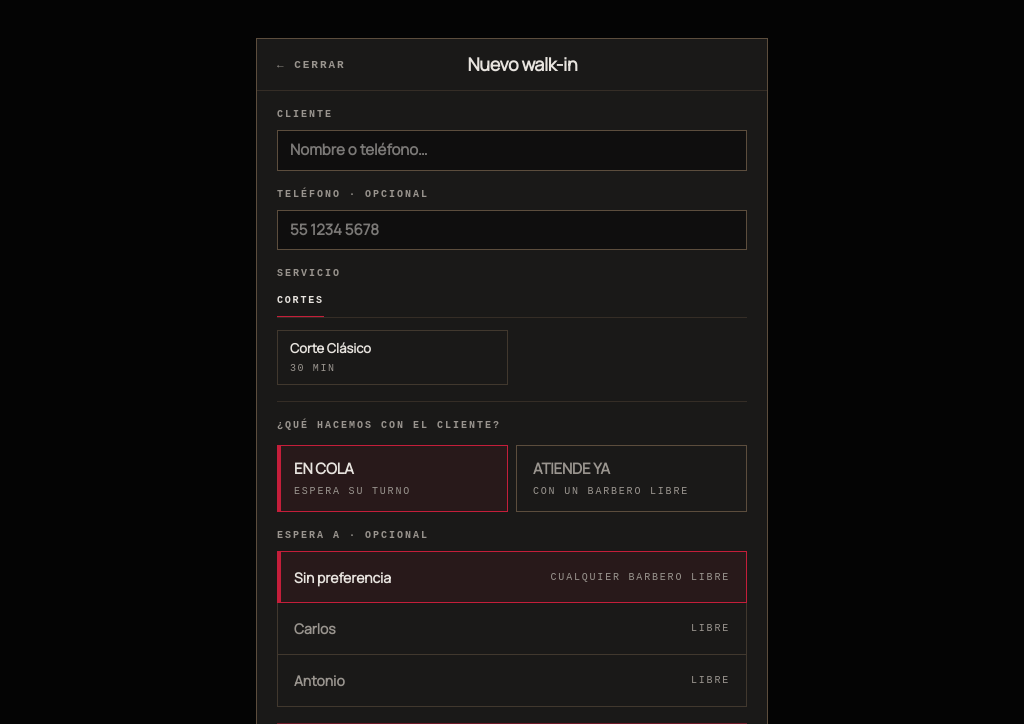
it: AddWalkInSheet › surfaces the server CUSTOMER_NAME_TAKEN message instead of a generic error
Click the button "Corte Clásico 30 min" at (392, 358), box [277, 330, 508, 385]
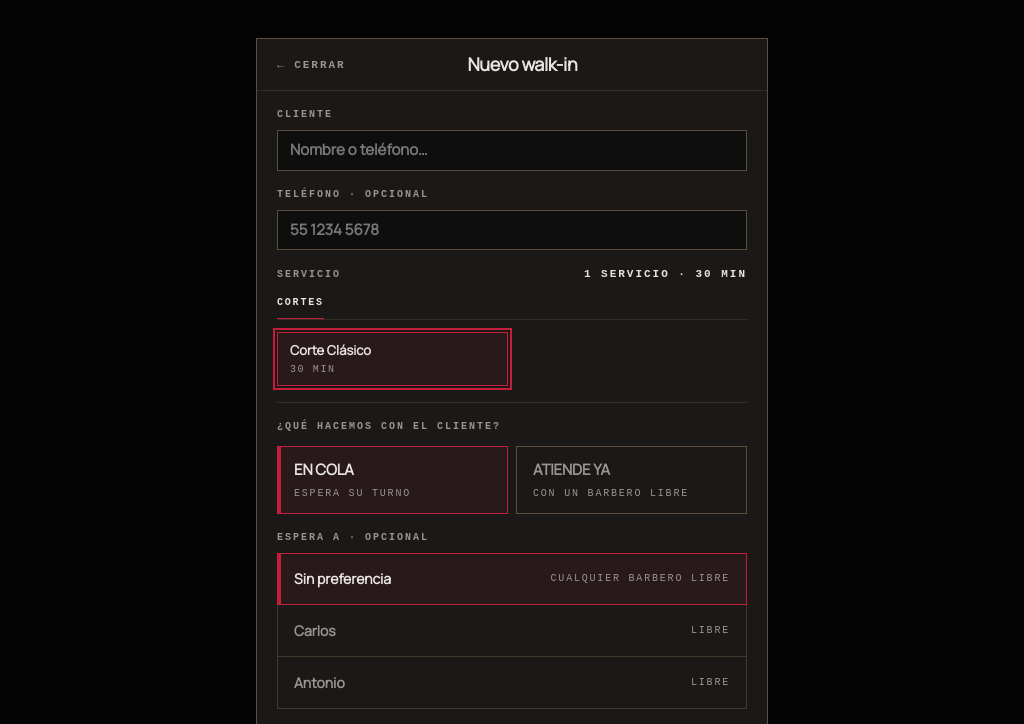
Type "Juan Pérez" into the field with placeholder "Nombre o teléfono…" at (512, 151), box [277, 130, 747, 171]
(page scrolled)
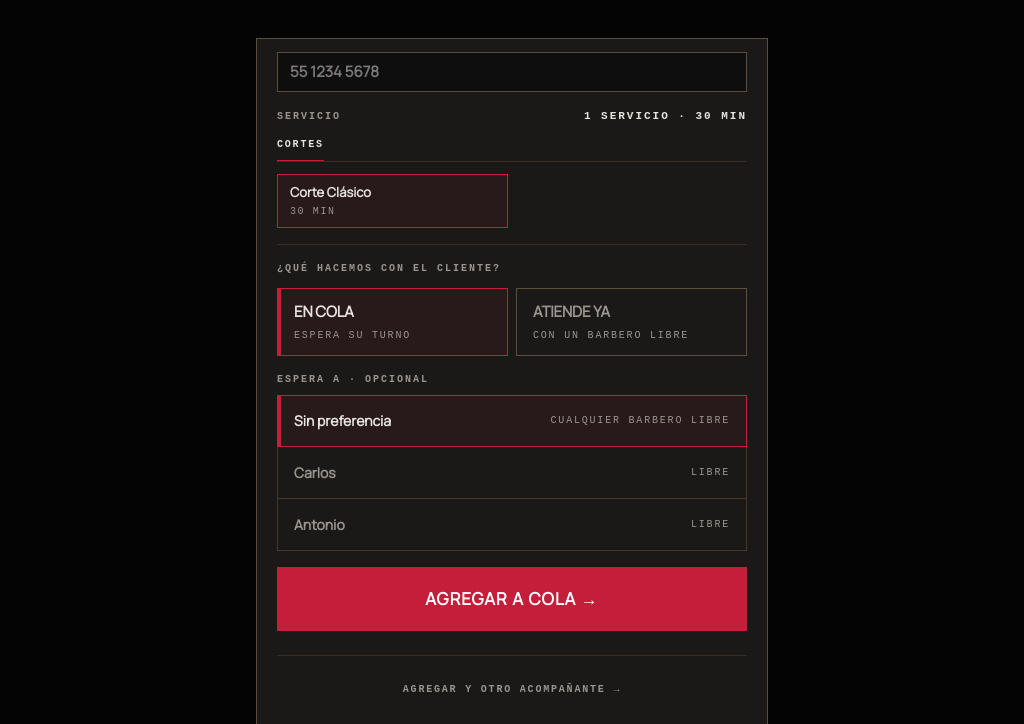
Click the button "Agregar a cola →" at (512, 599), box [277, 567, 747, 631]
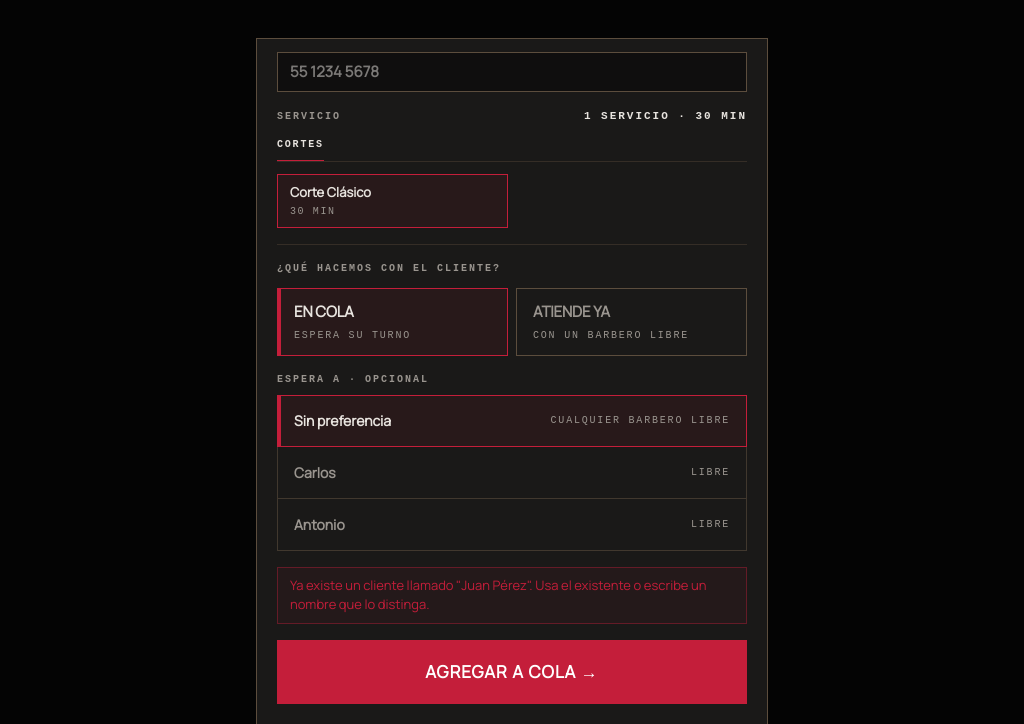
Expected: the message shows "Ya existe un cliente llamado \"Juan Pérez\". Usa el existente o escribe un nombre que lo distinga.", [290, 576, 706, 613]
